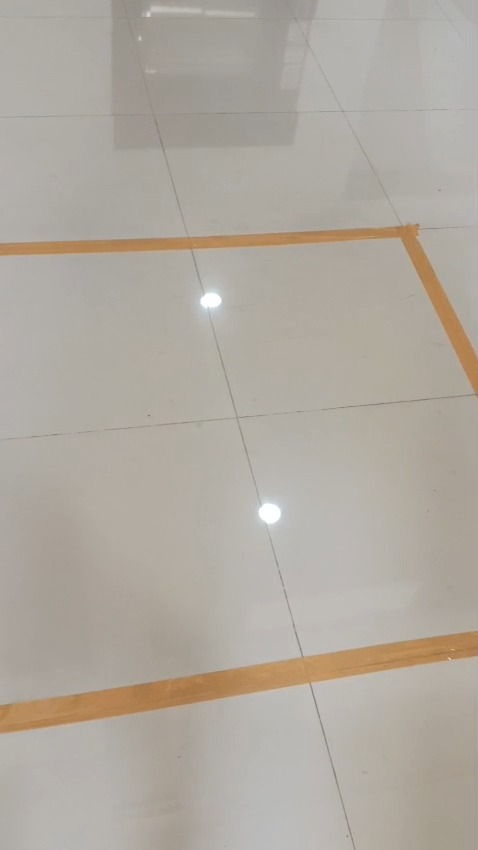floor marking: (0, 225, 477, 394), (0, 632, 477, 733)
